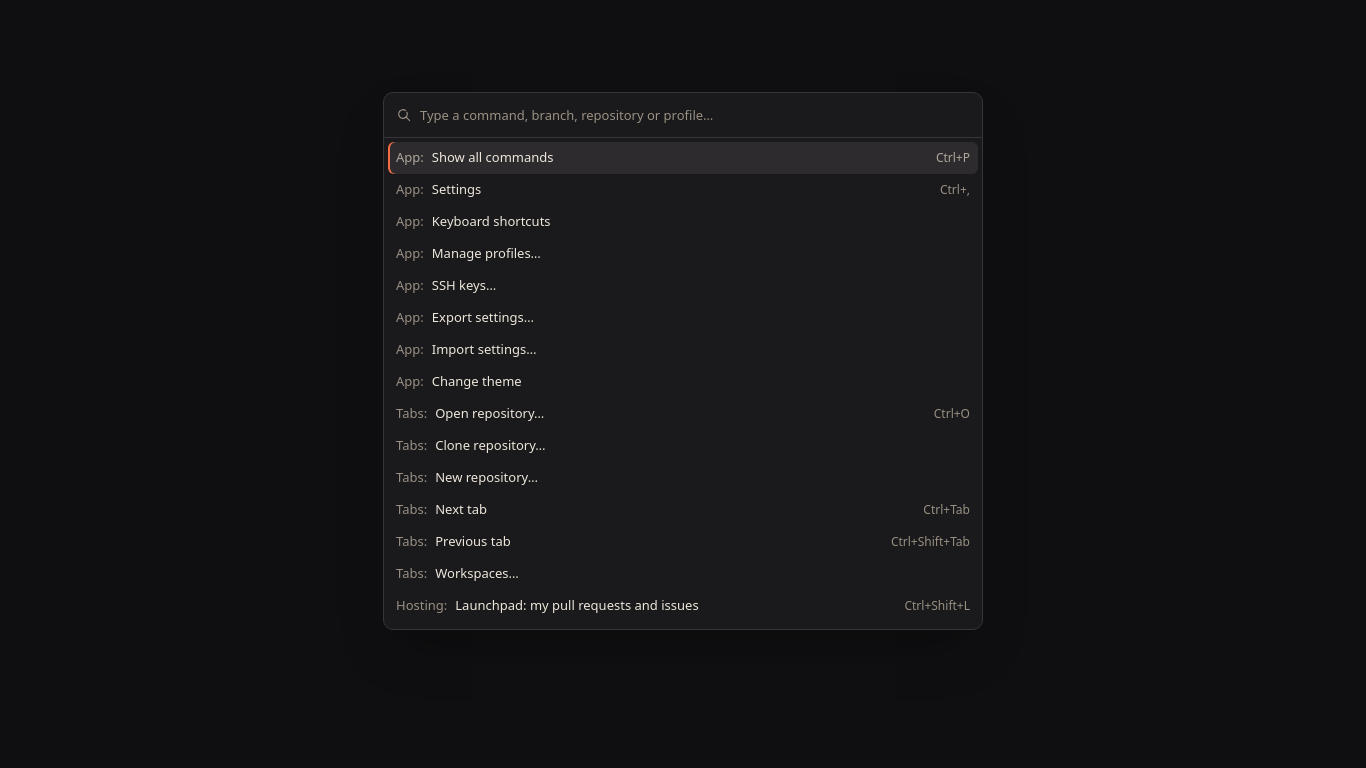
Test: CommandPalette › says when nothing matches
Type "zzzzqq" into the dropdown.
click(695, 115); type("zzzzqq")  # box [420,93,970,137]
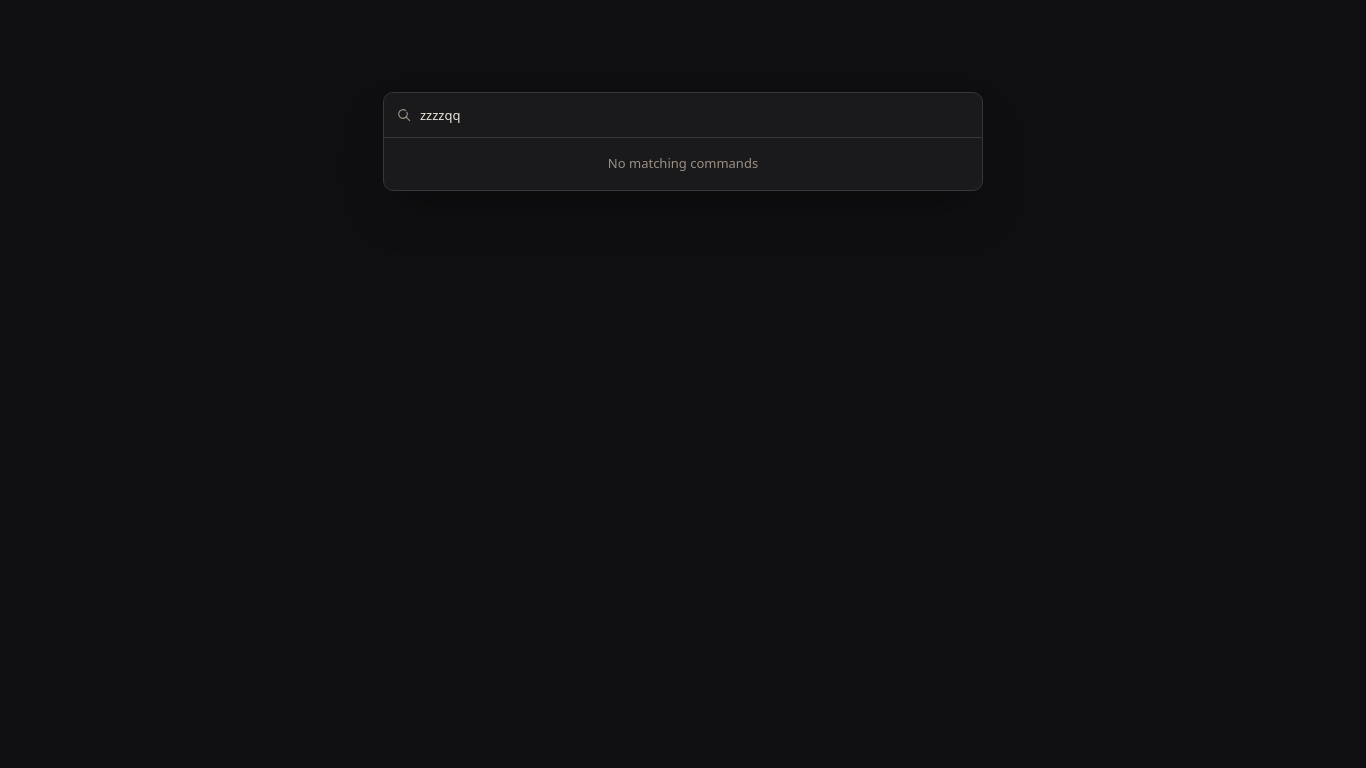
Expected: the list item "No matching commands" is shown, [608,154,758,172]
